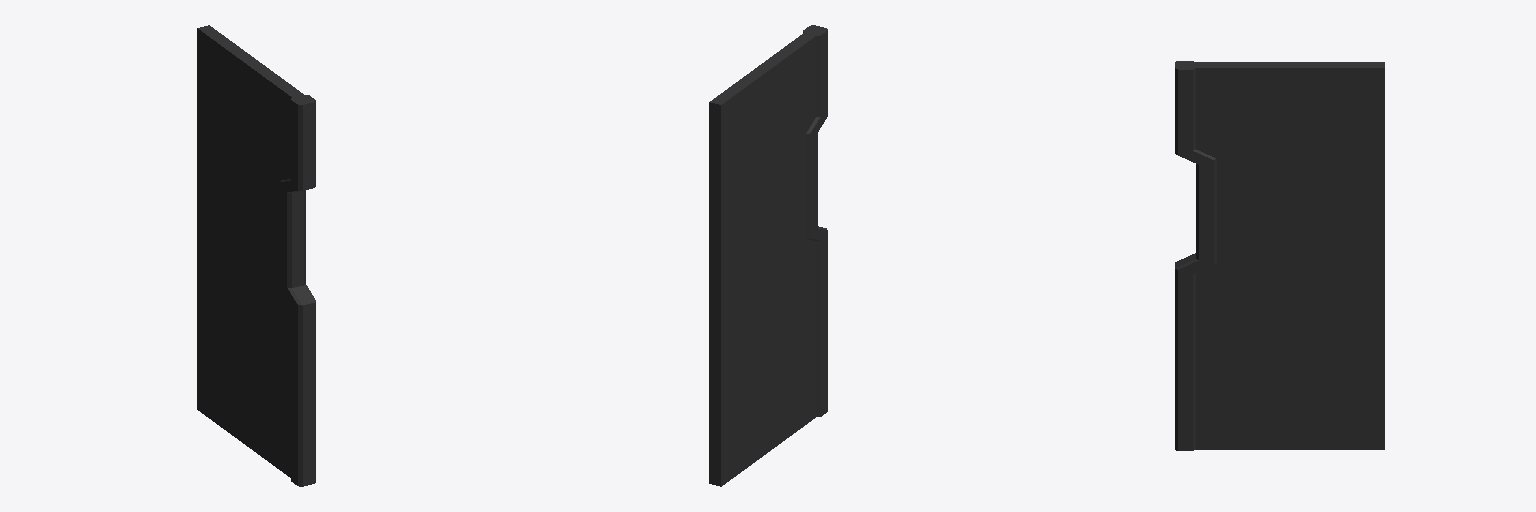
The model's file is door.obj.
The picture shows the model from 3 angles: view 1: azimuth 30°, elevation 25°; view 2: azimuth 150°, elevation 25°; view 3: azimuth 270°, elevation 25°; orthographic projection.
Parts seen in each view (by area): view 1: Cube; view 2: Cube; view 3: Cube.
Boxes of the visible parts, box(x1,y1,x2,y2) form: Cube: box(197, 25, 315, 486); Cube: box(709, 25, 827, 486); Cube: box(1175, 61, 1384, 450).
Size of the model in its own units: 0.15 by 3 by 1.5.